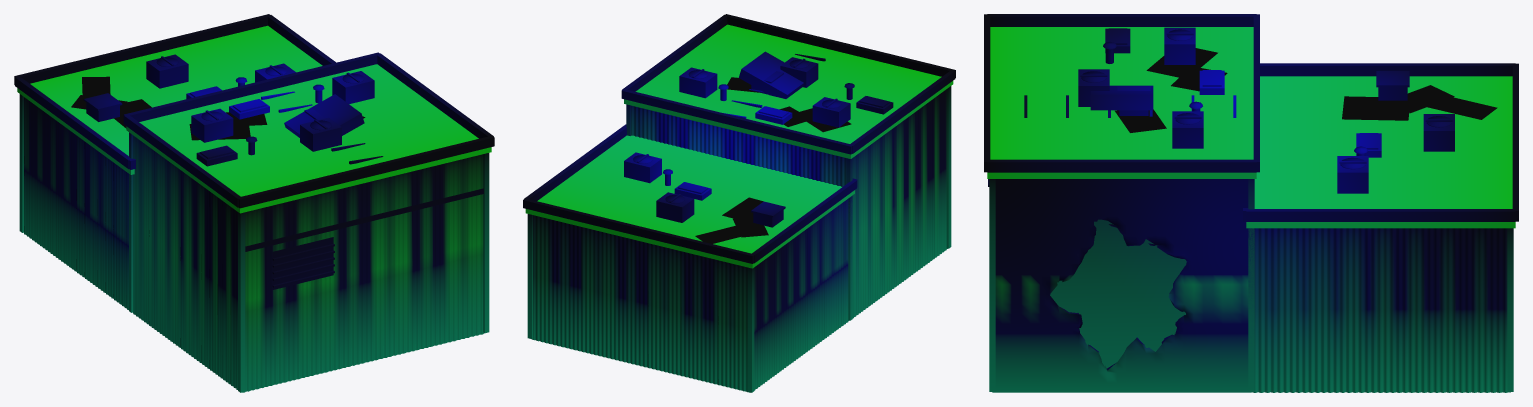
Rendered from factorymd_damaged.glb.
3 views of the same model, side by side, from view 1: azimuth 30°, elevation 25°; view 2: azimuth 150°, elevation 25°; view 3: azimuth 270°, elevation 25° (orthographic). The views are drawn at different scales.
Parts seen in each view (by area): view 1: lod0; view 2: lod0; view 3: lod0.
Part boxes in pixels (left/top/right/bottom): lod0: left=14, top=14, right=494, bottom=392; lod0: left=523, top=14, right=955, bottom=392; lod0: left=984, top=14, right=1518, bottom=392.
Size of what is drawn, in the model's own units: 16.8 by 13.15 by 25.6.
